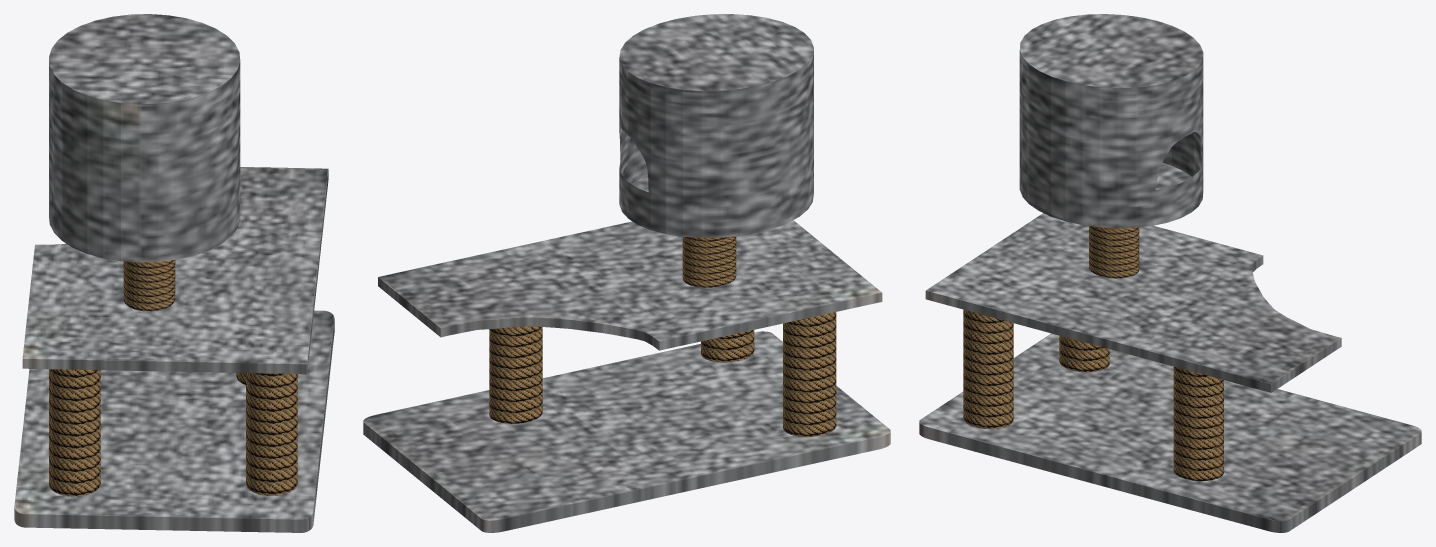
The model's file is house7.gltf.
The picture shows the model from 3 angles, left to right: view 1: azimuth 30°, elevation 25°; view 2: azimuth 150°, elevation 25°; view 3: azimuth 270°, elevation 25°; orthographic projection. The views are drawn at different scales.
Parts seen in each view (by area): view 1: Цилиндр.004, Плоскость.001, Плоскость, Цилиндр, Цилиндр.001, Цилиндр.003; view 2: Плоскость, Цилиндр.004, Плоскость.001, Цилиндр, Цилиндр.002, Цилиндр.003, Цилиндр.001; view 3: Плоскость, Плоскость.001, Цилиндр.004, Цилиндр.001, Цилиндр.002, Цилиндр.003, Цилиндр.
Part boxes in pixels (x1=…): Цилиндр.004: x1=49, y1=14, x2=240, y2=262; Плоскость.001: x1=22, y1=167, x2=328, y2=374; Плоскость: x1=14, y1=310, x2=334, y2=532; Цилиндр: x1=49, y1=369, x2=100, y2=496; Цилиндр.001: x1=246, y1=373, x2=297, y2=495; Цилиндр.003: x1=123, y1=260, x2=175, y2=311; Плоскость: x1=363, y1=331, x2=890, y2=532; Цилиндр.004: x1=619, y1=14, x2=813, y2=237; Плоскость.001: x1=378, y1=220, x2=882, y2=350; Цилиндр: x1=783, y1=312, x2=836, y2=436; Цилиндр.002: x1=489, y1=326, x2=542, y2=423; Цилиндр.003: x1=682, y1=236, x2=736, y2=287; Цилиндр.001: x1=701, y1=330, x2=754, y2=362; Плоскость: x1=919, y1=333, x2=1421, y2=532; Плоскость.001: x1=925, y1=213, x2=1341, y2=392; Цилиндр.004: x1=1019, y1=14, x2=1203, y2=228; Цилиндр.001: x1=963, y1=309, x2=1013, y2=429; Цилиндр.002: x1=1173, y1=366, x2=1223, y2=481; Цилиндр.003: x1=1089, y1=226, x2=1139, y2=278; Цилиндр: x1=1059, y1=335, x2=1109, y2=372.
Size of the model in its own units: 5.14 by 4.55 by 5.76.
7 materials, 7 textured.
